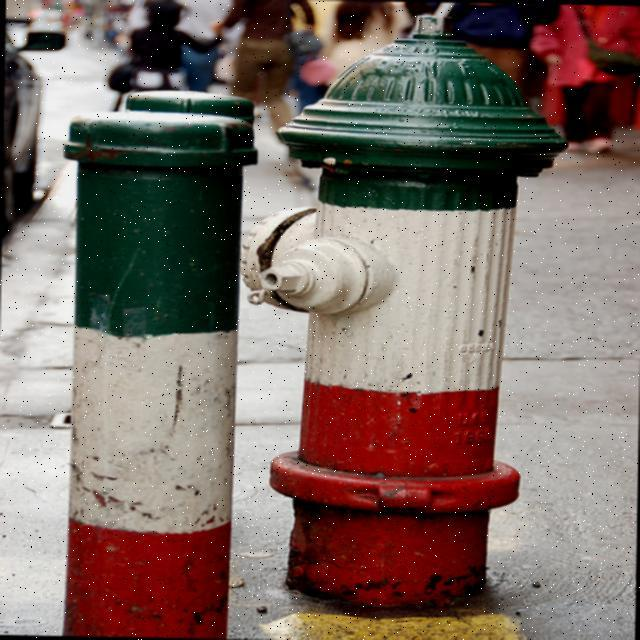fire_hydrant: (230, 8, 574, 618)
